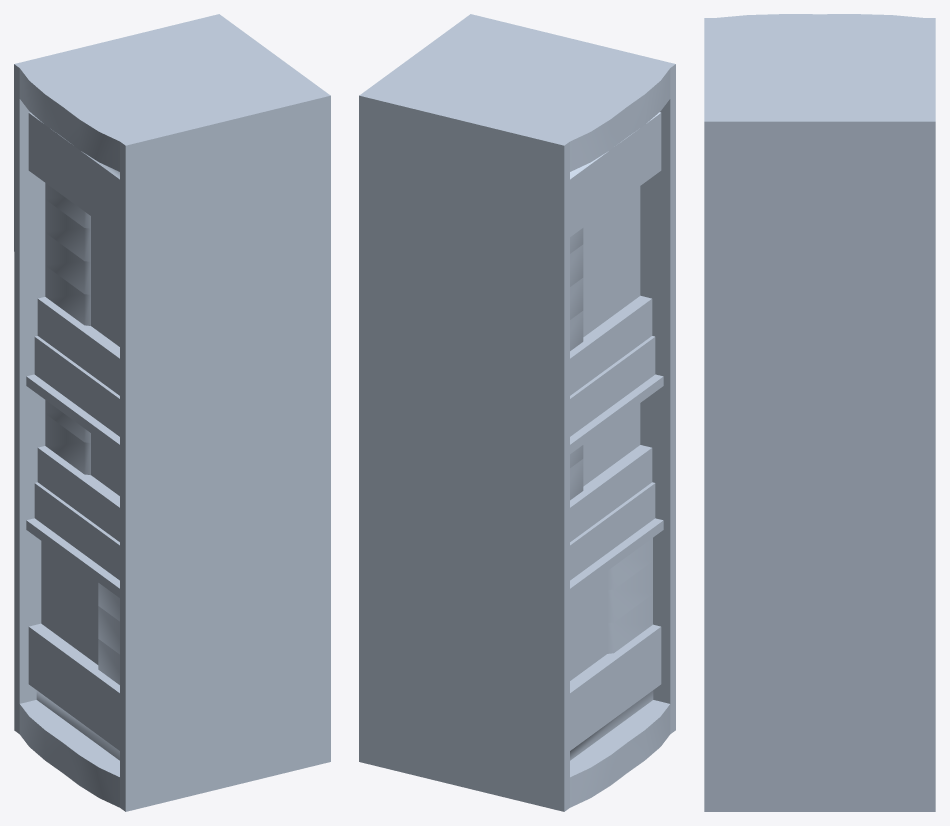
The model's file is serverbox1.fbx.
3 renders of one model, left to right at view 1: azimuth 30°, elevation 25°; view 2: azimuth 150°, elevation 25°; view 3: azimuth 270°, elevation 25°, orthographic. The views are drawn at different scales.
Visible parts, largest first — view 1: AF_server_box; view 2: AF_server_box; view 3: AF_server_box.
Boxes of the visible parts, <box> form: AF_server_box: <box>14,14,330,811</box>; AF_server_box: <box>359,14,675,811</box>; AF_server_box: <box>704,14,935,811</box>.
Bounding box in the file's own units: 85.75 × 256 × 77.8.
